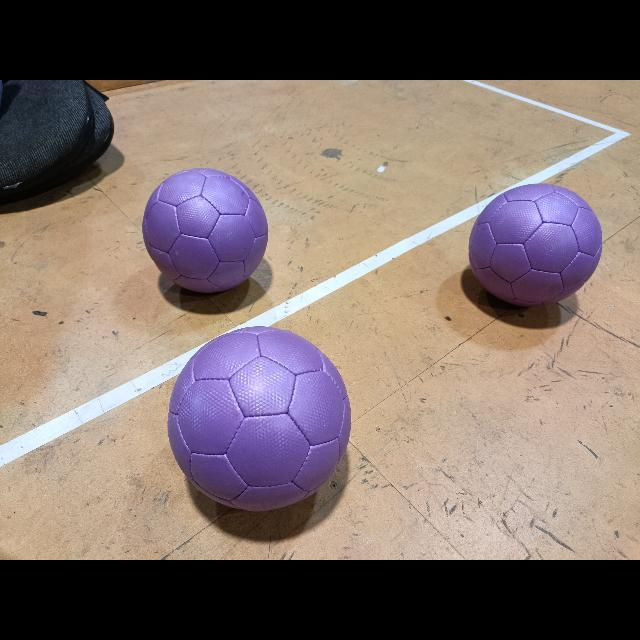P: (168, 326, 350, 510), (468, 183, 602, 305), (142, 168, 268, 292)
